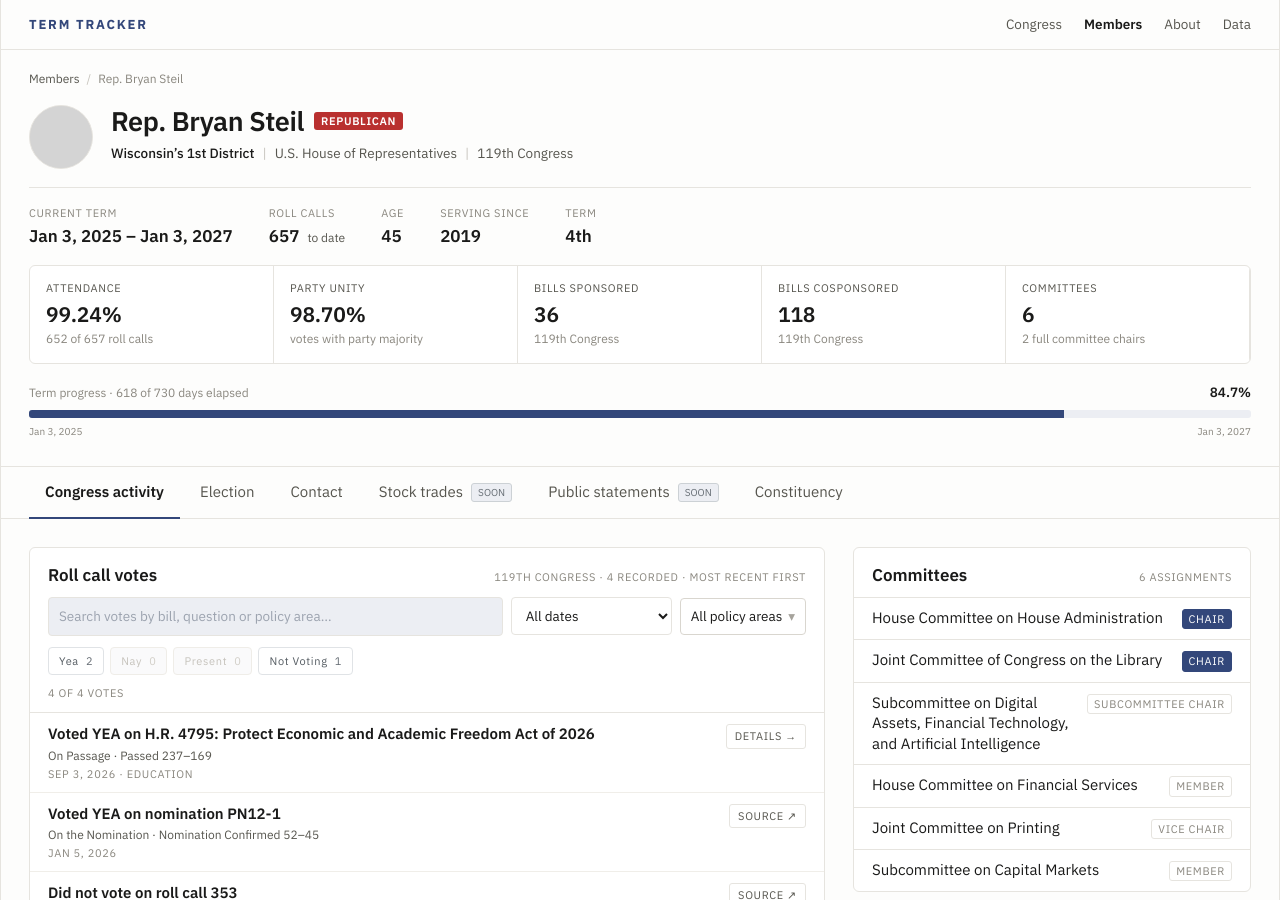
Scenario: member tabs › the Contact tab lists the office phone, website, and address, and links them
Click the tab "Contact". click: coordinates (317, 493)
box: top-left (274, 467), bottom-right (359, 519)
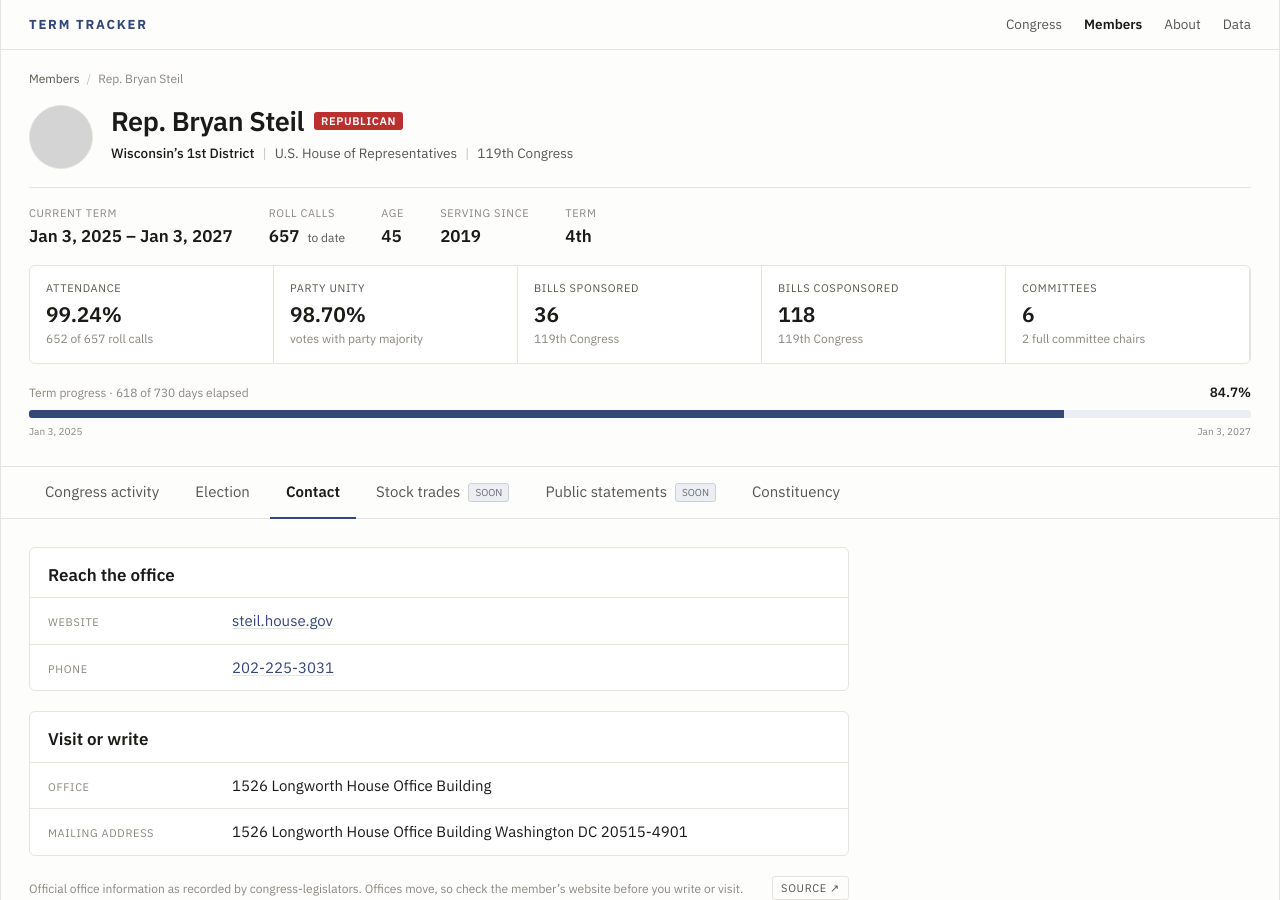
Expected: the link "source ↗" is shown, top-left (772, 876), bottom-right (849, 899)
Now the text "1526 Longworth House Office Building" is shown, box top-left (232, 775), bottom-right (491, 796)
Now the text "Washington DC 20515-4901" is shown, box top-left (232, 822), bottom-right (688, 841)
